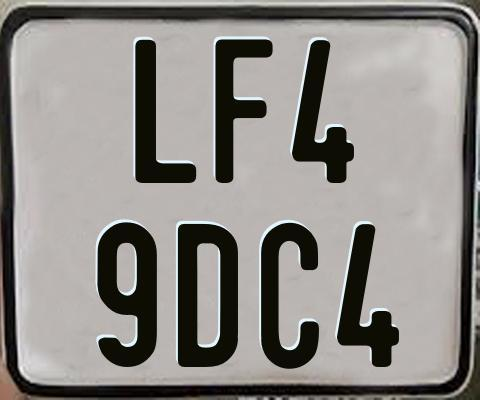4: (291, 39, 357, 187), (335, 224, 400, 369)
9: (94, 222, 159, 373)
C: (261, 223, 319, 374)
D: (175, 224, 236, 369)
F: (213, 36, 275, 180)
L: (134, 37, 199, 180)
